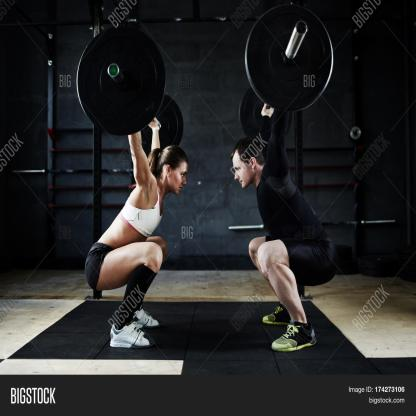Barbell: (71, 16, 173, 140), (246, 0, 338, 113)
